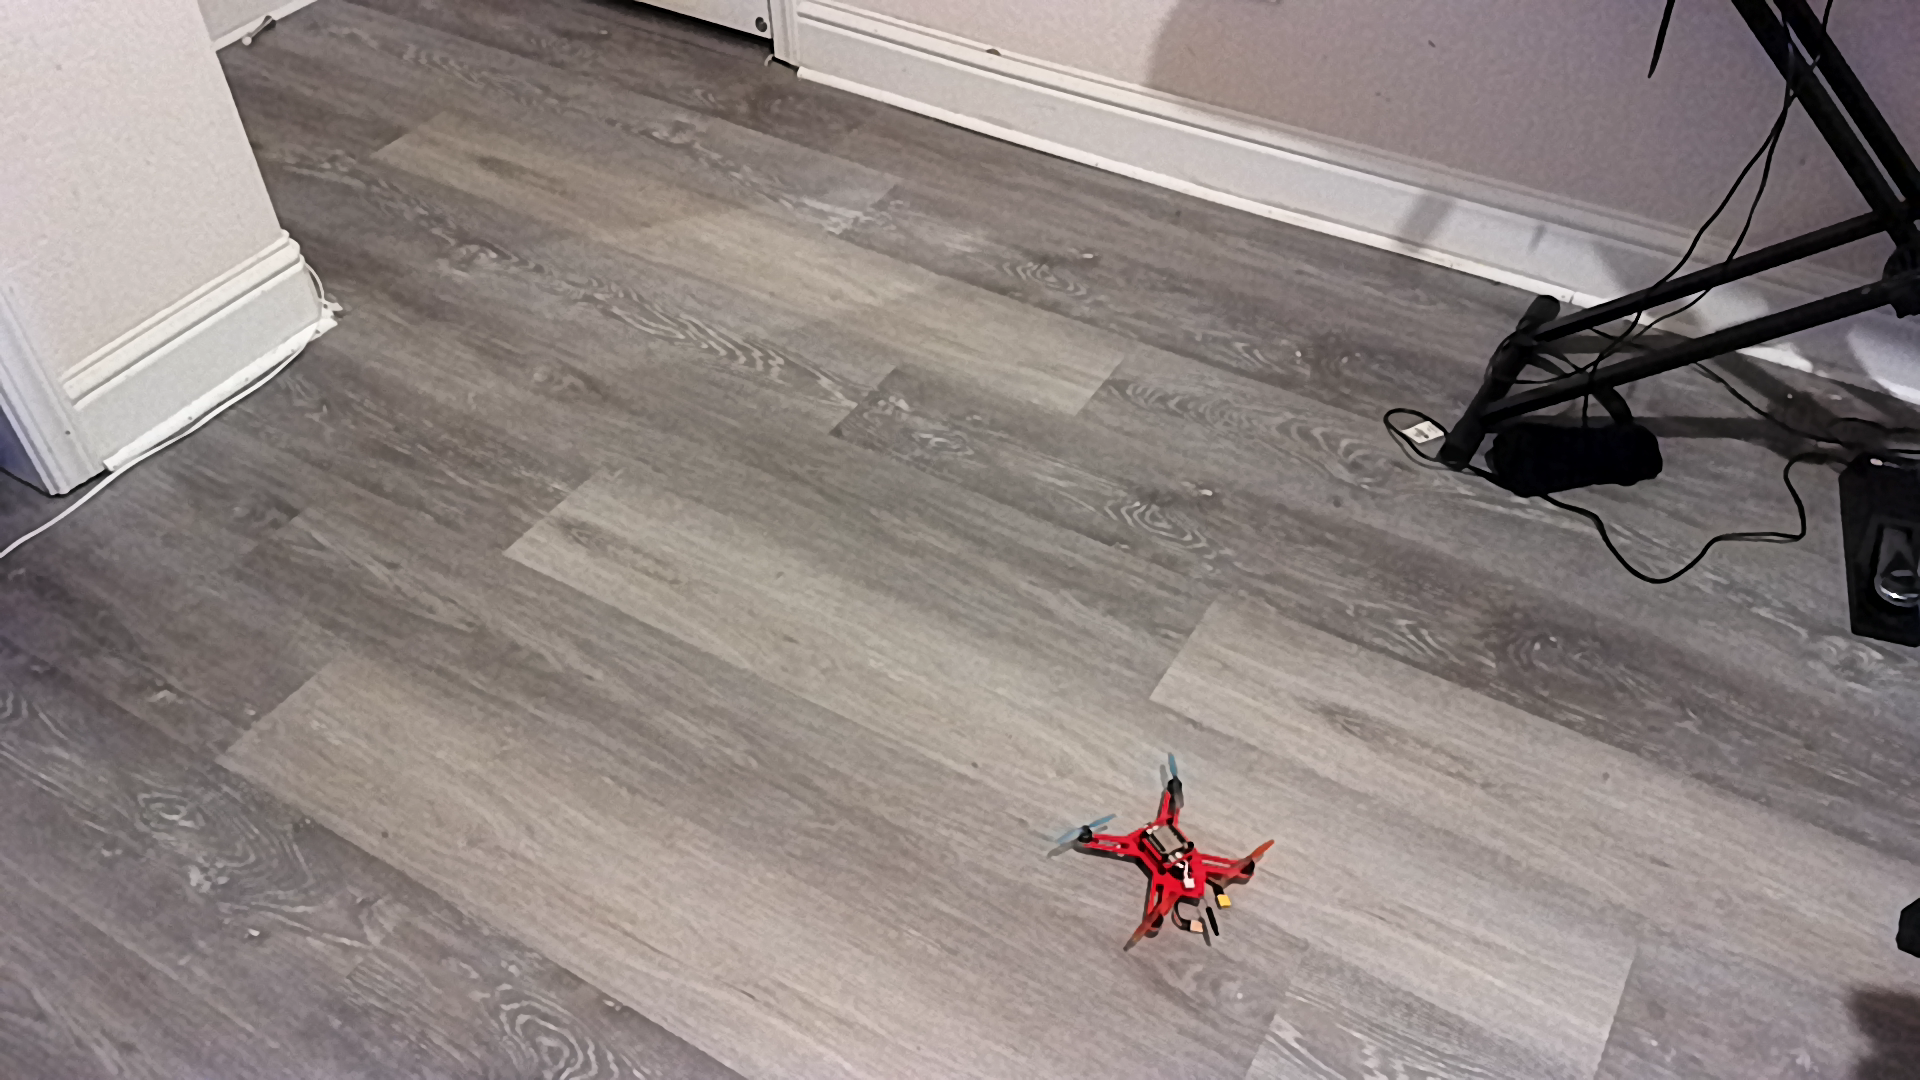drone: (1056, 752, 1298, 964)
